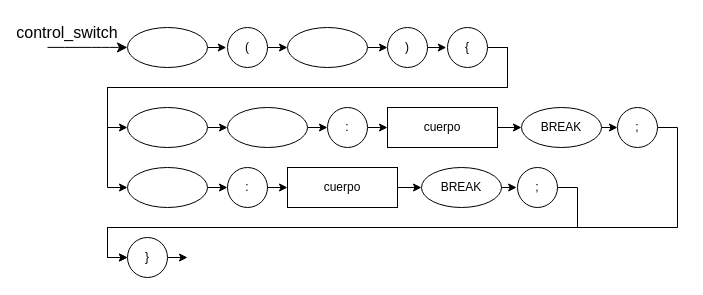
The diagram is 703 pixels wide and 295 high, and some of its shapes have lost their labels. Here are the shapes that lost their labels. From the top down, the box of each, then its label:
(126, 26, 208, 68): SWITCH
(286, 26, 368, 68): IDENTIF
(126, 106, 208, 148): CASE
(226, 106, 308, 148): NUMBER
(126, 166, 208, 208): DEFAULT
